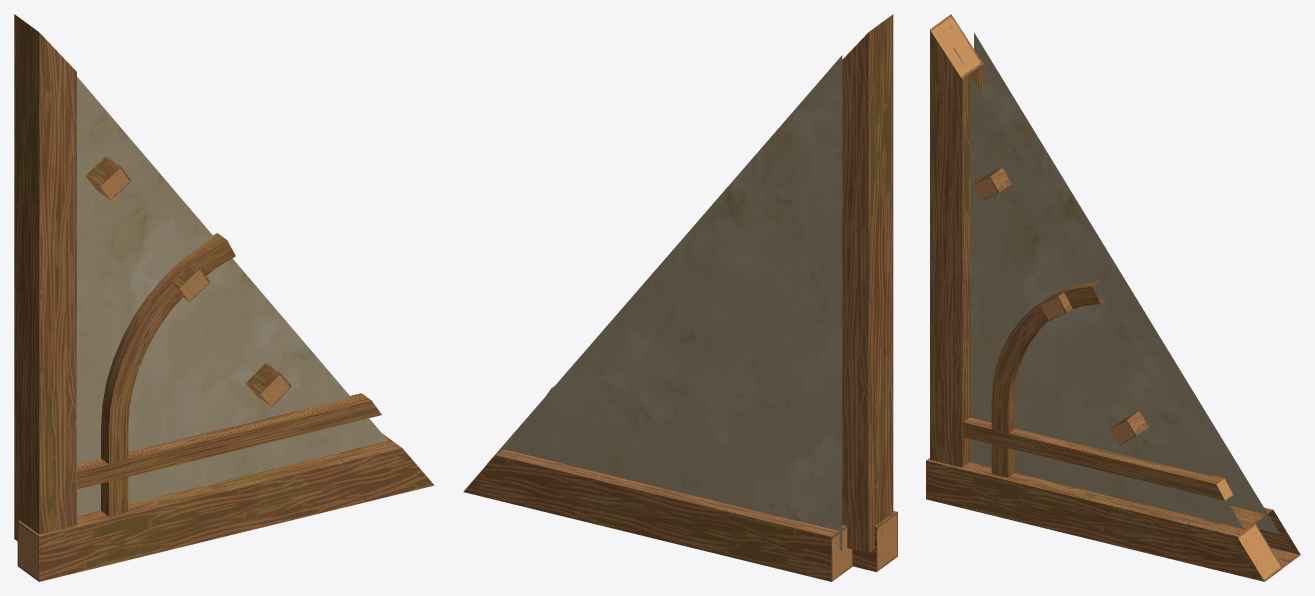
Rendered from Roof_Front_Brick4_Half_R.gltf.
3 views of the same model, side by side, from view 1: azimuth 30°, elevation 25°; view 2: azimuth 150°, elevation 25°; view 3: azimuth 330°, elevation 25° (orthographic). The views are drawn at different scales.
Parts seen in each view (by area): view 1: Roof_Front_Brick4_Half_R; view 2: Roof_Front_Brick4_Half_R; view 3: Roof_Front_Brick4_Half_R.
Boxes of the visible parts, box(x1,y1,x2,y2) form: Roof_Front_Brick4_Half_R: box(14, 14, 434, 581); Roof_Front_Brick4_Half_R: box(463, 14, 897, 581); Roof_Front_Brick4_Half_R: box(926, 14, 1300, 581).
Size of the model in its own units: 2.42 by 3.2 by 0.4896.
2 materials, 2 textured.
